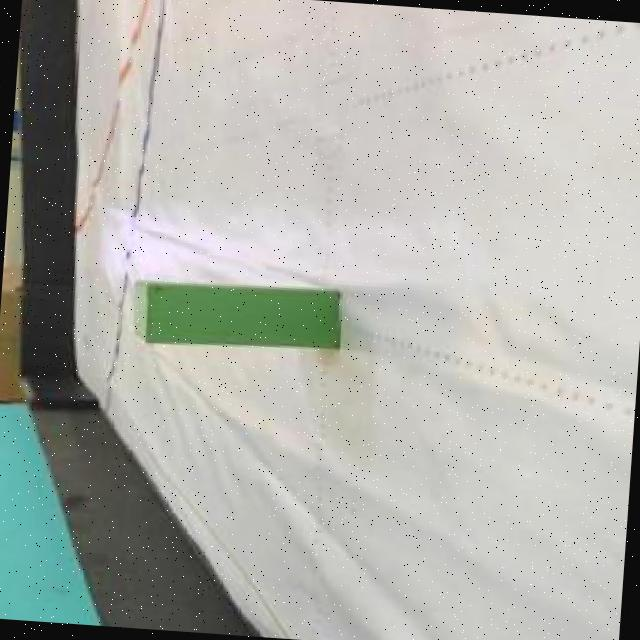greenbox: (126, 273, 344, 359)
